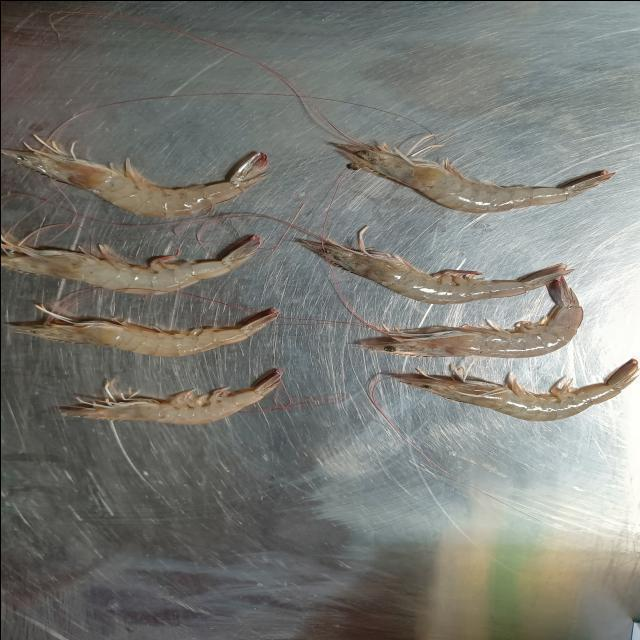shrimp: (299, 228, 582, 358), (2, 139, 266, 216), (335, 142, 611, 212), (2, 235, 261, 294), (399, 360, 636, 419), (14, 305, 277, 355), (62, 369, 281, 422)
